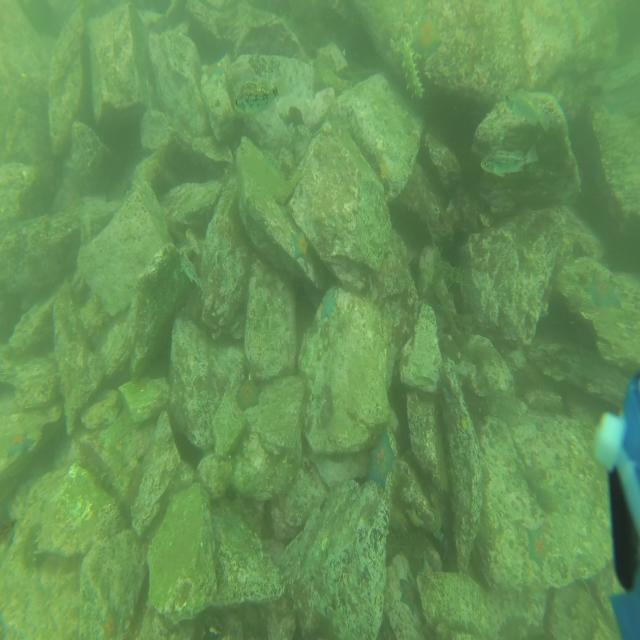holothurian: (395, 33, 425, 104), (22, 522, 43, 569)
starfish: (366, 432, 397, 492), (410, 11, 443, 61), (584, 273, 623, 310), (526, 521, 552, 572), (234, 375, 262, 413), (7, 428, 36, 460), (398, 574, 418, 616), (99, 604, 121, 640), (290, 228, 309, 264), (320, 287, 336, 322), (202, 60, 226, 81)
